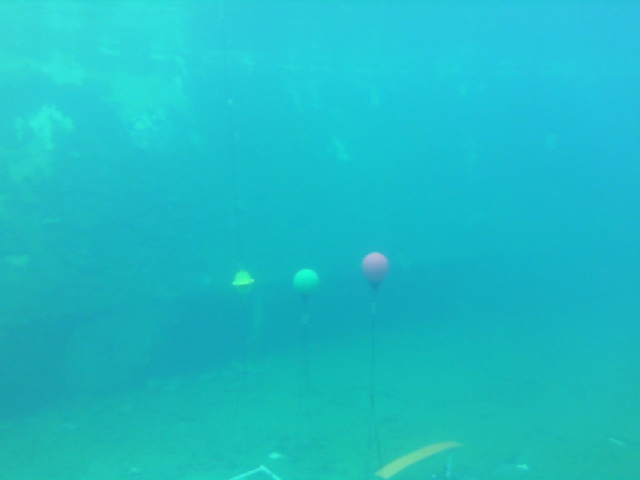buoy_green: (292, 266, 318, 303)
buoy_red: (360, 251, 389, 290)
buoy_yellow: (231, 270, 255, 296)
